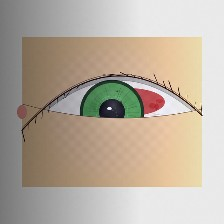hemorrhage_spot: (77, 61, 179, 143)
